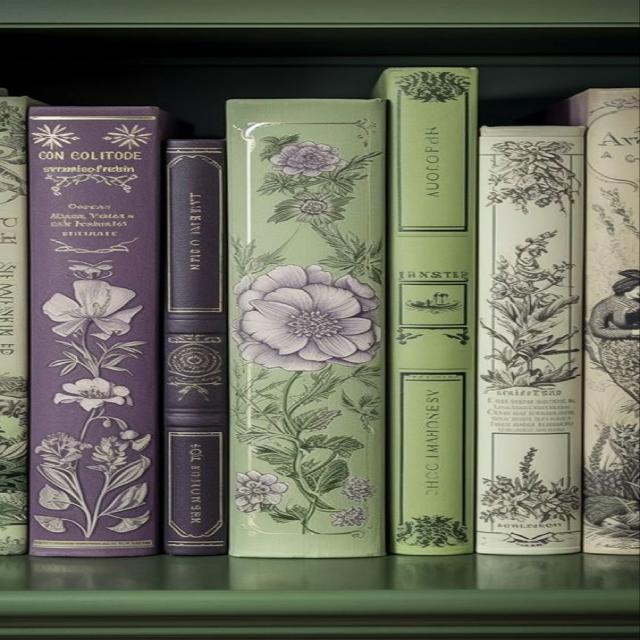book: (227, 99, 385, 558), (28, 106, 166, 557), (373, 67, 477, 555), (474, 126, 583, 558), (566, 89, 639, 554), (165, 140, 227, 554), (0, 90, 37, 554)
